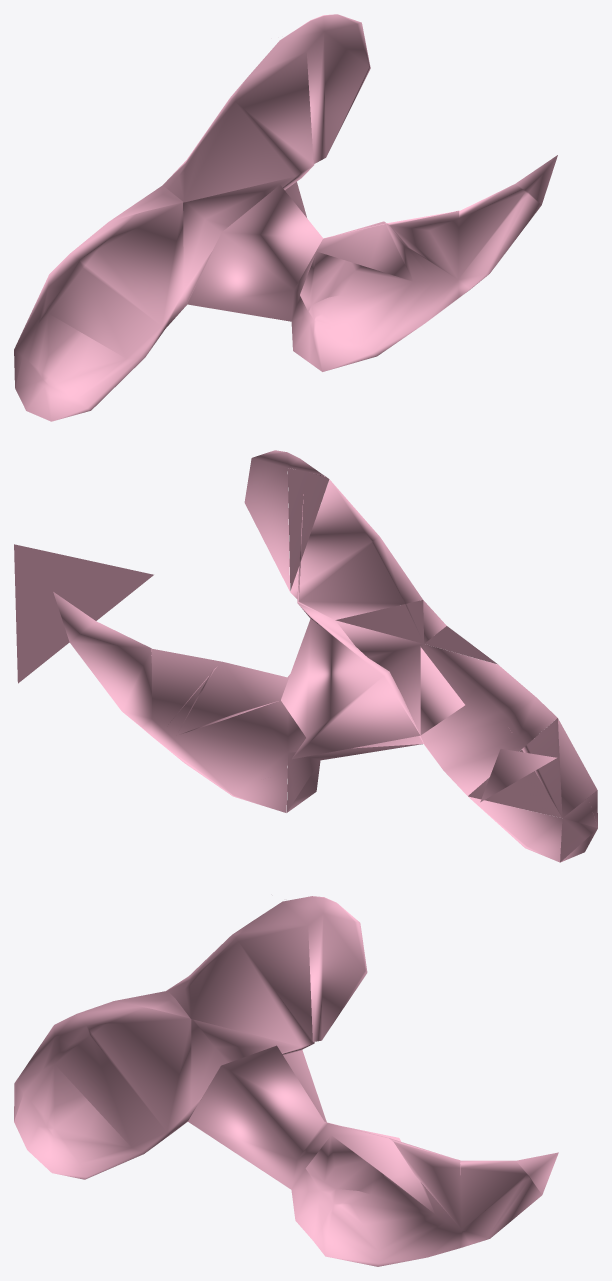
The model's file is yqn52.gltf.
3 renders of one model, top to bottom at view 1: azimuth 30°, elevation 25°; view 2: azimuth 150°, elevation 25°; view 3: azimuth 330°, elevation 25°, orthographic.
Visible parts, largest first — view 1: Switch_Switch_osgPicked_gmeGeoEntityGeode_Geometry_0; view 2: Switch_Switch_osgPicked_gmeGeoEntityGeode_Geometry_0, Switch_Switch_osgPicked_gmeGeoEntityGeode_Geometry_Geometry_ (×4); view 3: Switch_Switch_osgPicked_gmeGeoEntityGeode_Geometry_0.
Boxes of the visible parts, x1,y1,x2,y2 form: Switch_Switch_osgPicked_gmeGeoEntityGeode_Geometry_0: [14, 14, 557, 421]; Switch_Switch_osgPicked_gmeGeoEntityGeode_Geometry_0: [53, 450, 597, 862]; Switch_Switch_osgPicked_gmeGeoEntityGeode_Geometry_Geometry_ (×4): [14, 468, 561, 817]; Switch_Switch_osgPicked_gmeGeoEntityGeode_Geometry_0: [14, 896, 558, 1266].
Size of the model in its own units: 2136 by 1260 by 118.
